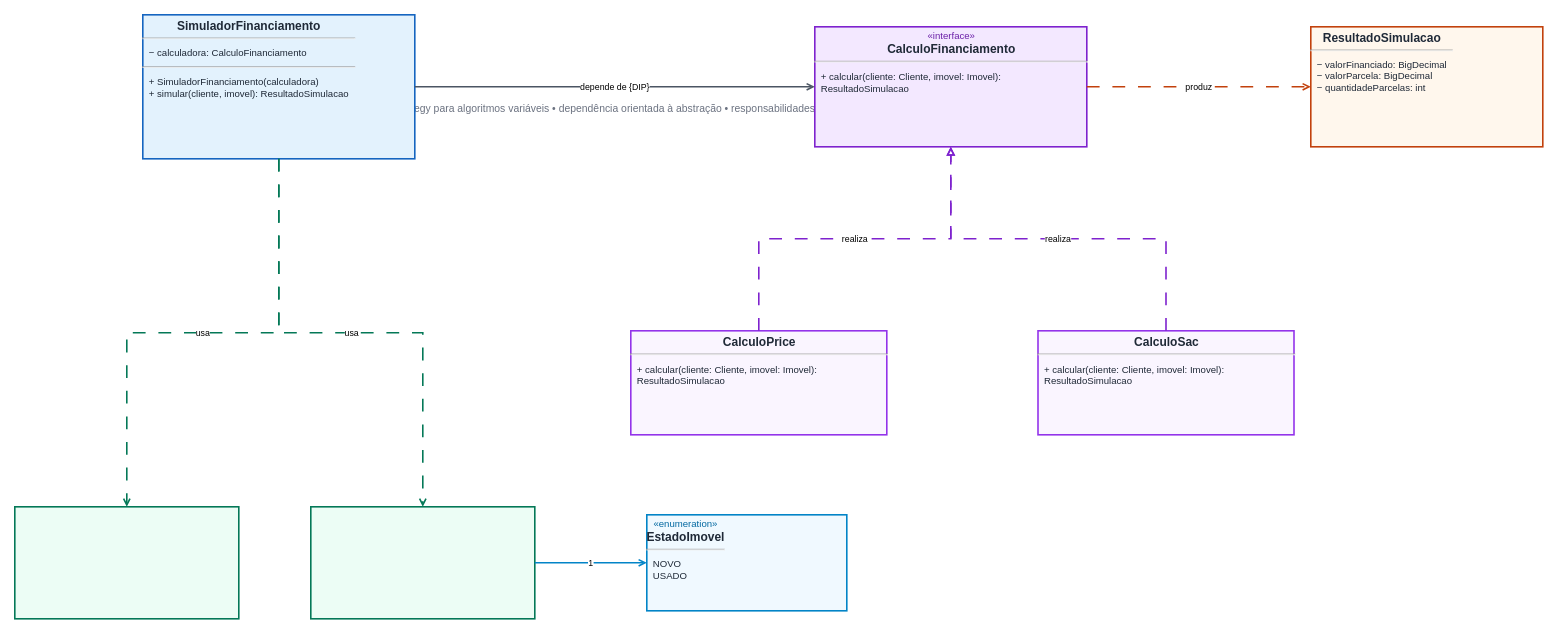
This 1557x633 diagram has some shape labels left out. The box of each missing label's shape, as (x1, y1, x2, y2) in pixels:
Cliente − nome: String − rendaBruta: BigDecimal − idade: int: (14, 506, 239, 619)
Imovel − cidade: String − valor: BigDecimal − estado: EstadoImovel: (310, 506, 535, 619)
